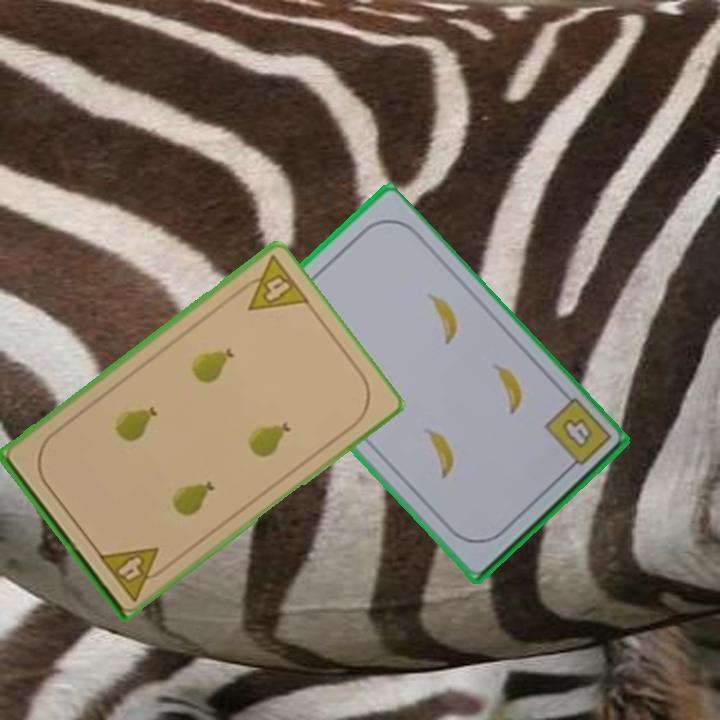4b: (541, 394, 614, 476)
4p: (230, 252, 312, 314), (95, 543, 172, 604)
